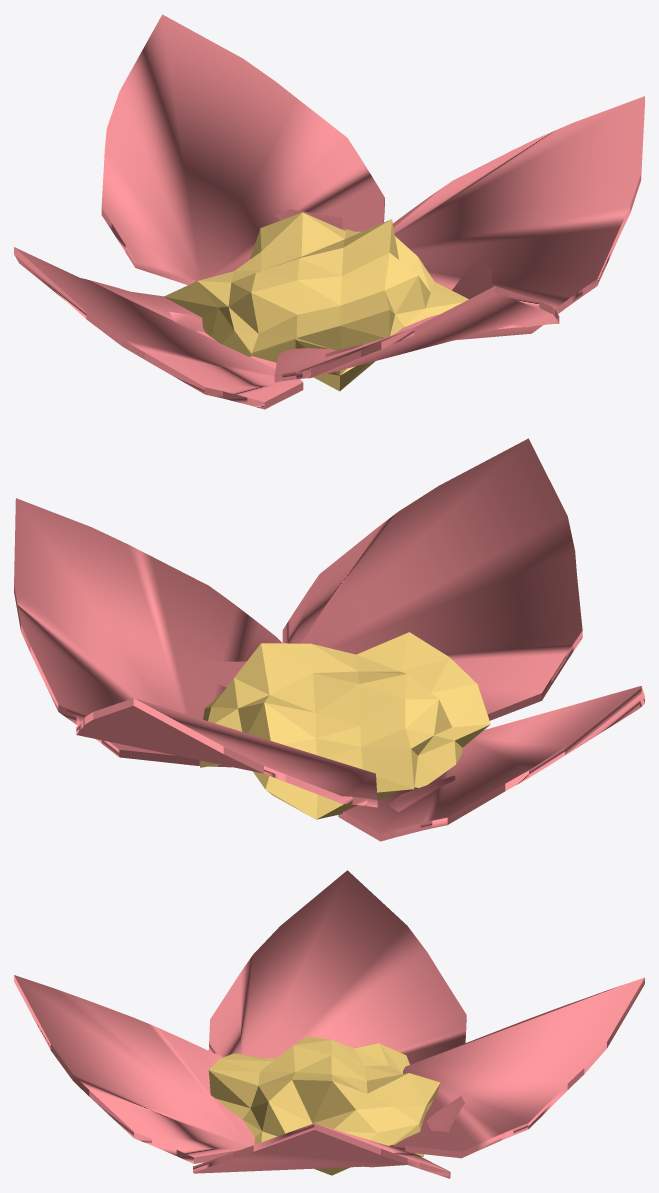
File: flower_one.fbx
3 views of the same model, one above another, from view 1: azimuth 30°, elevation 25°; view 2: azimuth 150°, elevation 25°; view 3: azimuth 270°, elevation 25° (orthographic). The views are drawn at different scales.
Visible parts, largest first — view 1: flower_one, flower_two; view 2: flower_one, flower_two; view 3: flower_one, flower_two.
Part boxes in pixels (box(x1,y1,x2,y2)): flower_one: box(14, 14, 644, 409); flower_two: box(164, 212, 468, 391); flower_one: box(14, 438, 644, 841); flower_two: box(200, 632, 490, 819); flower_one: box(14, 870, 644, 1178); flower_two: box(208, 1036, 440, 1175).
Size of the model in its own units: 256 by 85.53 by 257.
